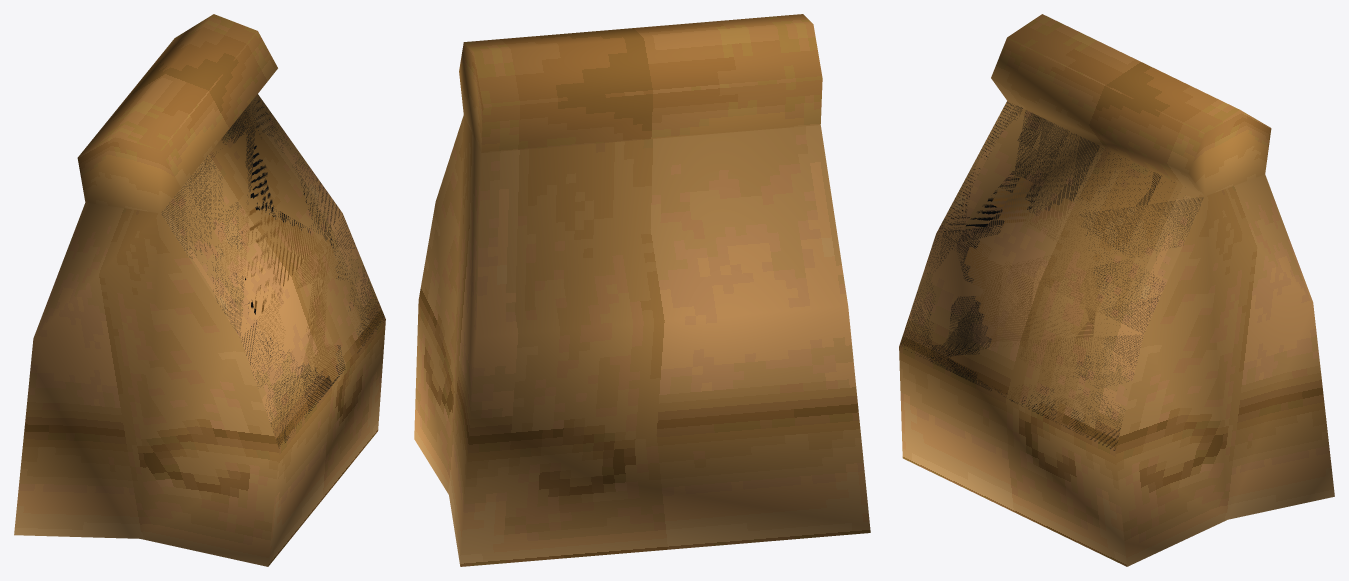
3 renders of one model, left to right at view 1: azimuth 30°, elevation 25°; view 2: azimuth 150°, elevation 25°; view 3: azimuth 270°, elevation 25°, orthographic. The views are drawn at different scales.
Visible parts, largest first — view 1: 5146so_m_niku; view 2: 5146so_m_niku; view 3: 5146so_m_niku.
Boxes of the visible parts, x1,y1,x2,y2 form: 5146so_m_niku: (14, 14, 385, 566); 5146so_m_niku: (414, 14, 870, 566); 5146so_m_niku: (899, 14, 1334, 566).
Size of the model in its own units: 0.5564 by 0.5605 by 0.5479.
2 materials, 2 textured.
